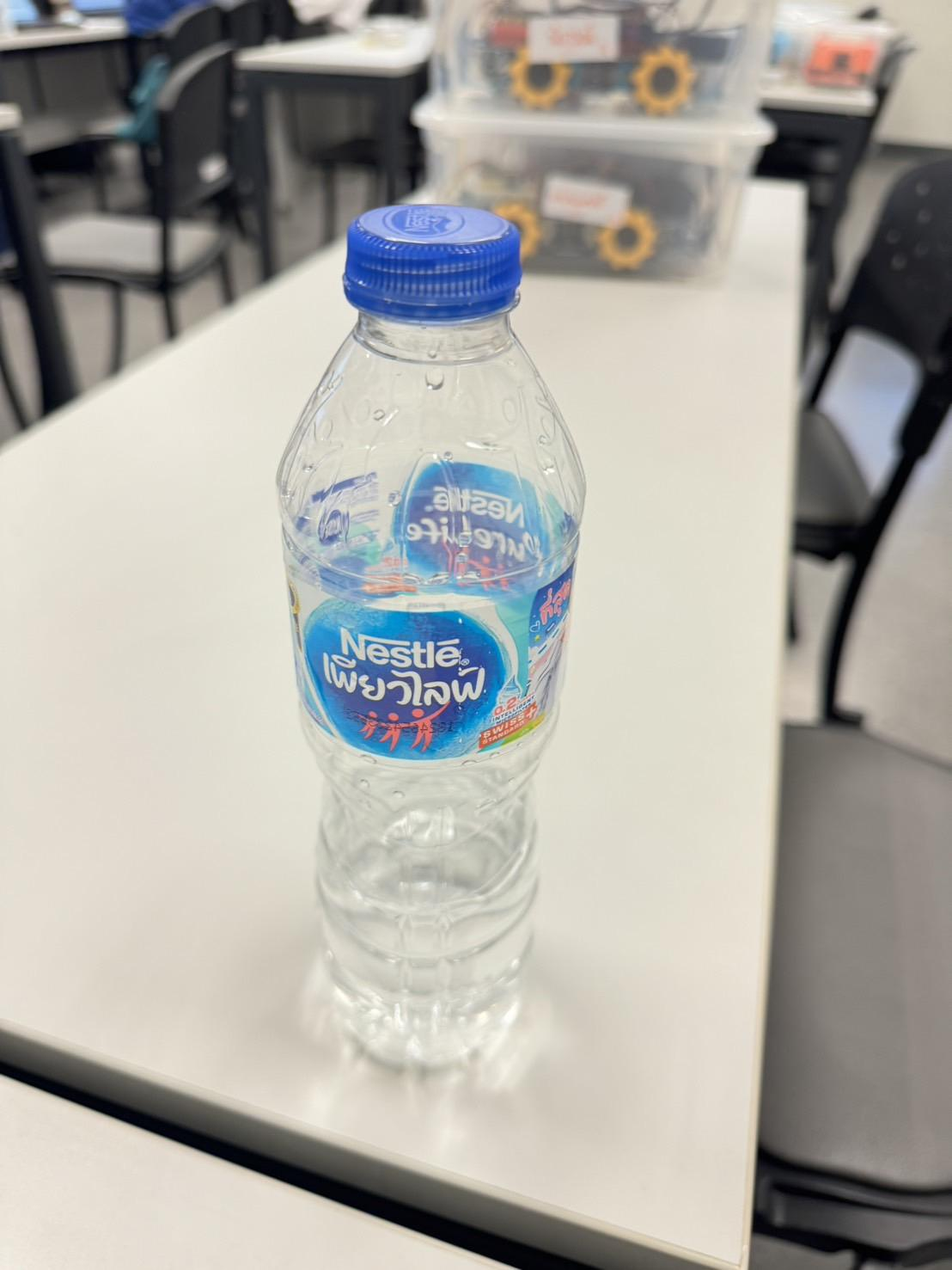Bottle: (278, 204, 583, 1065)
